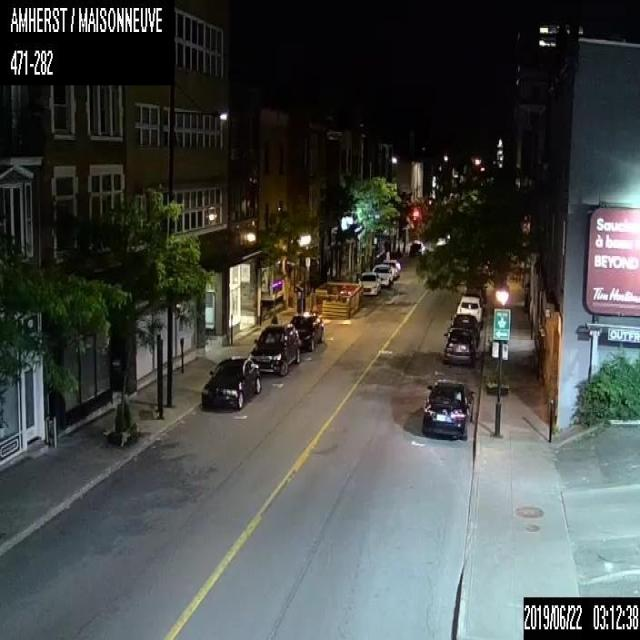vehicle: (419, 377, 475, 439), (200, 356, 261, 409), (248, 322, 299, 375), (442, 327, 476, 365), (289, 313, 323, 350), (450, 311, 480, 341), (456, 295, 483, 324), (357, 272, 380, 296), (464, 286, 484, 311), (372, 264, 392, 285), (380, 258, 400, 278), (408, 239, 424, 256)
